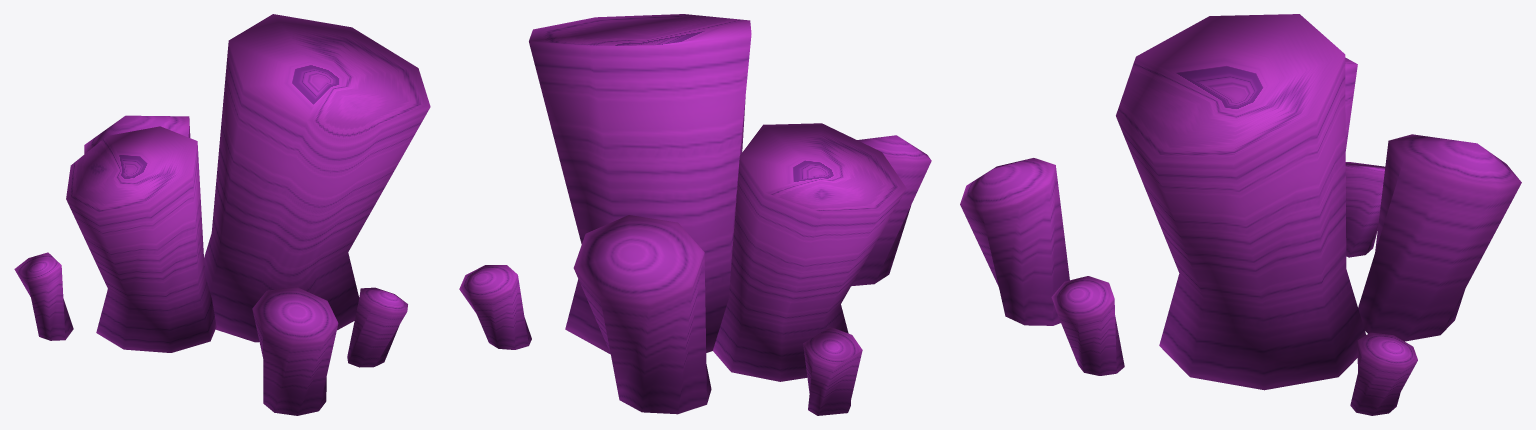
File: PurpleCluster2LOD.fbx
3 renders of one model, left to right at view 1: azimuth 30°, elevation 25°; view 2: azimuth 150°, elevation 25°; view 3: azimuth 270°, elevation 25°, orthographic. The views are drawn at different scales.
Visible parts, largest first — view 1: PurpleCluster3; view 2: PurpleCluster3; view 3: PurpleCluster3.
Part boxes in pixels (box(x1,y1,x2,y2)): PurpleCluster3: box(14, 14, 430, 415); PurpleCluster3: box(459, 14, 931, 415); PurpleCluster3: box(960, 14, 1521, 415).
Bounding box in the file's own units: 99.13 × 75.43 × 119.
